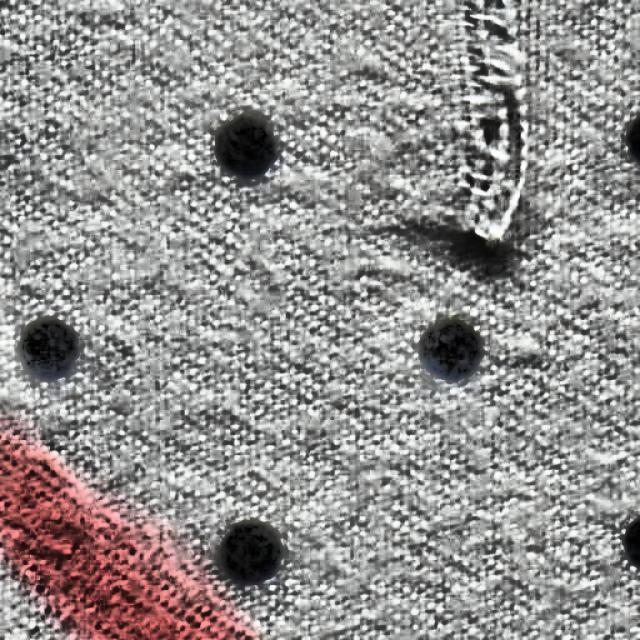gray stitch: (439, 0, 548, 258)
